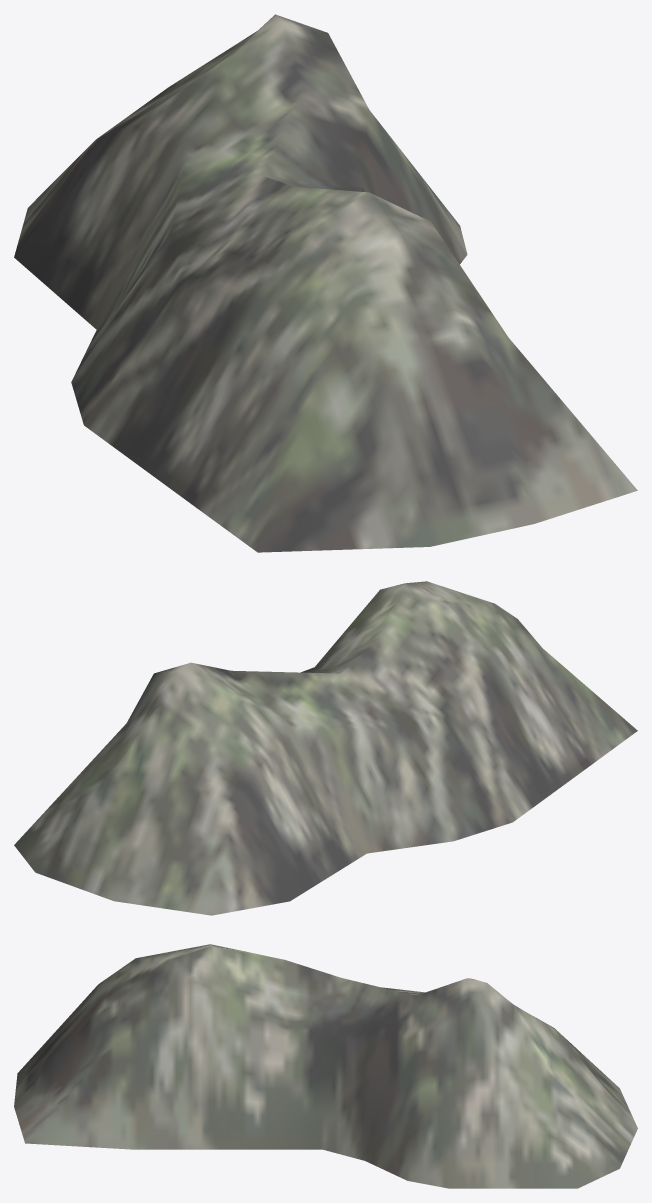
File: BgMD_Mid_Mount_D_low.FBX
3 renders of one model, top to bottom at view 1: azimuth 30°, elevation 25°; view 2: azimuth 150°, elevation 25°; view 3: azimuth 270°, elevation 25°, orthographic. The views are drawn at different scales.
Visible parts, largest first — view 1: BgMD_Mid_Mount_D_low; view 2: BgMD_Mid_Mount_D_low; view 3: BgMD_Mid_Mount_D_low.
Boxes of the visible parts, x1=… form: BgMD_Mid_Mount_D_low: x1=14, y1=14, x2=637, y2=552; BgMD_Mid_Mount_D_low: x1=14, y1=581, x2=637, y2=915; BgMD_Mid_Mount_D_low: x1=14, y1=944, x2=637, y2=1188.
Size of the model in its own units: 3403 by 1558 by 5617.
